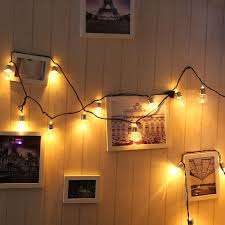bulb: (12, 117, 36, 132), (41, 128, 60, 146), (46, 68, 63, 86), (2, 66, 17, 86)
